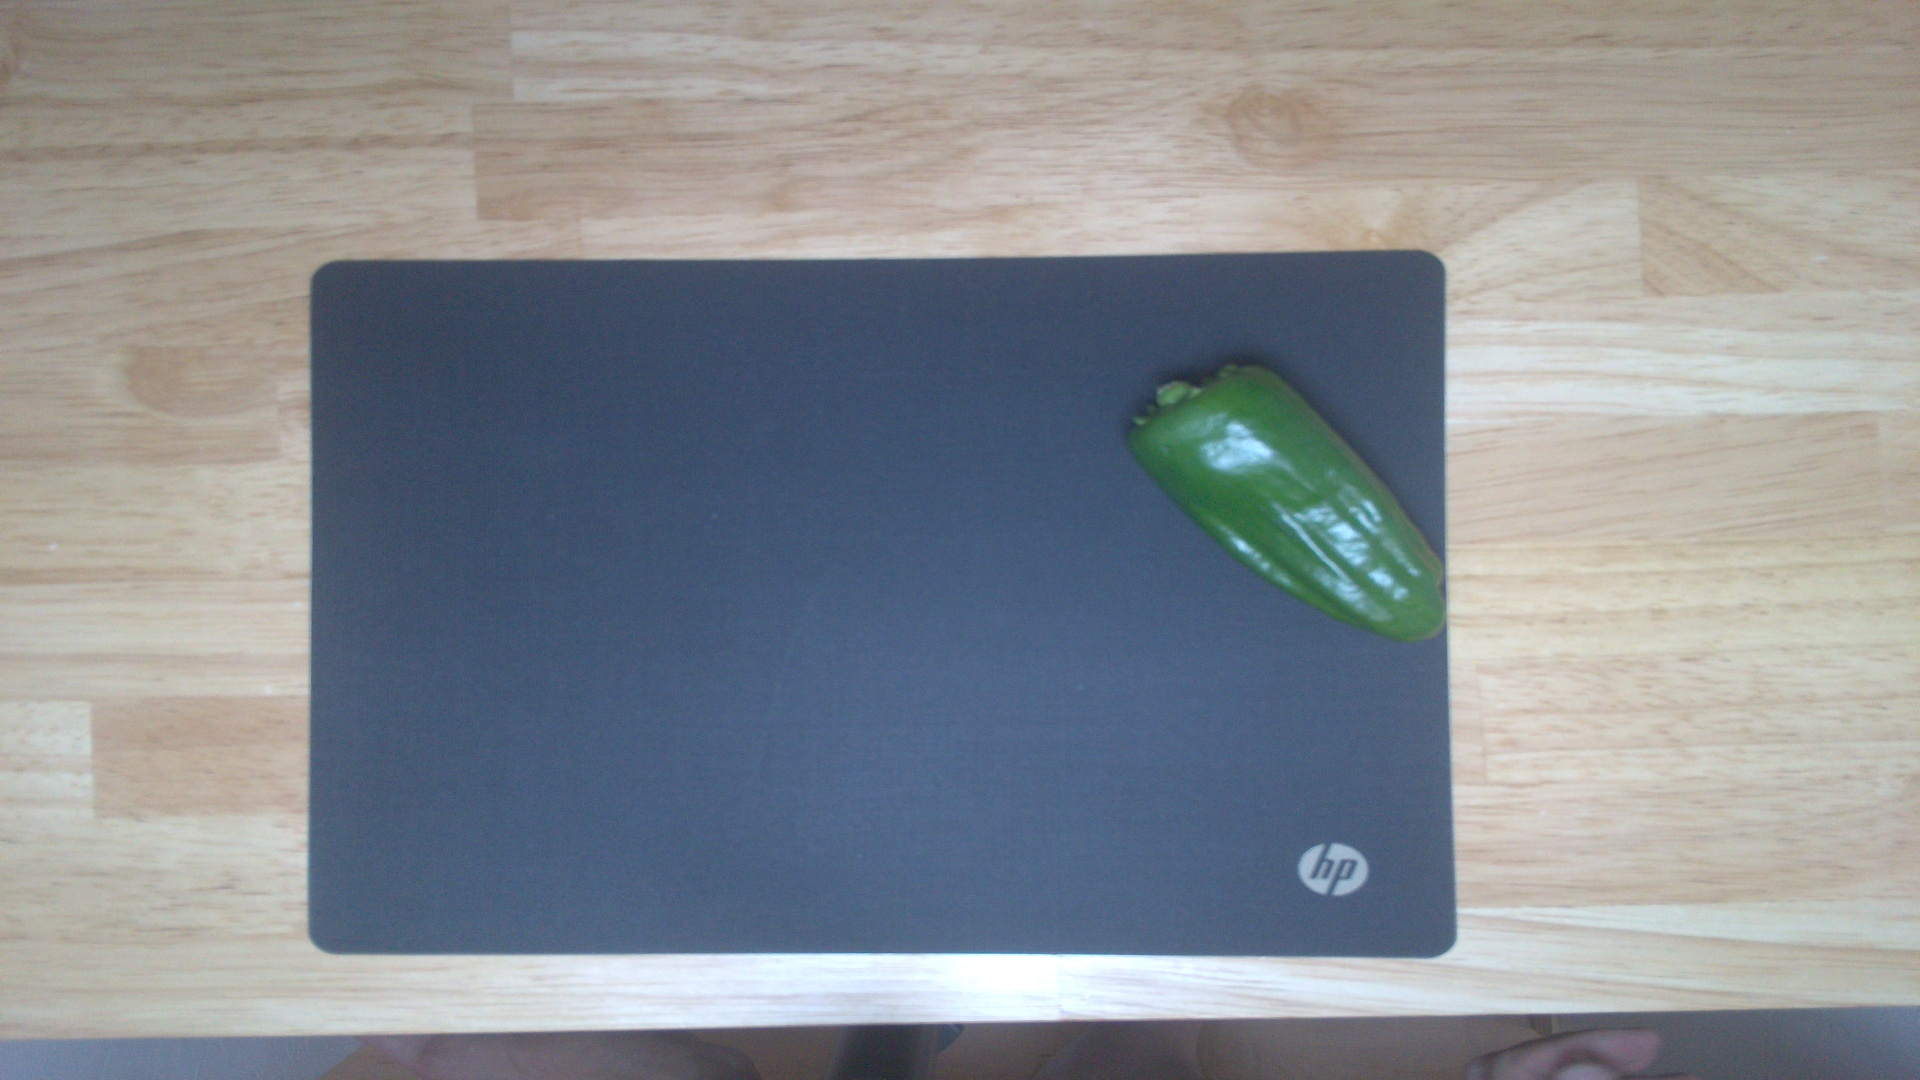Piman: (1125, 356, 1451, 646)
